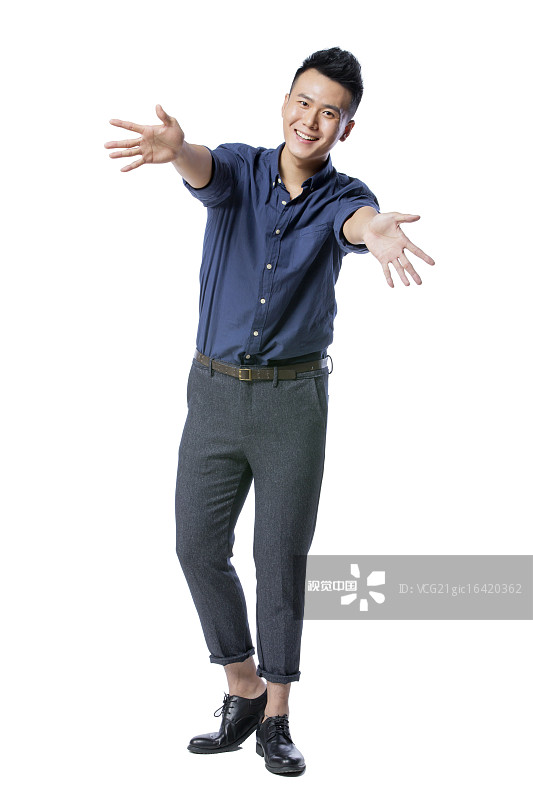no-phone: (347, 197, 446, 300), (92, 97, 197, 177)
